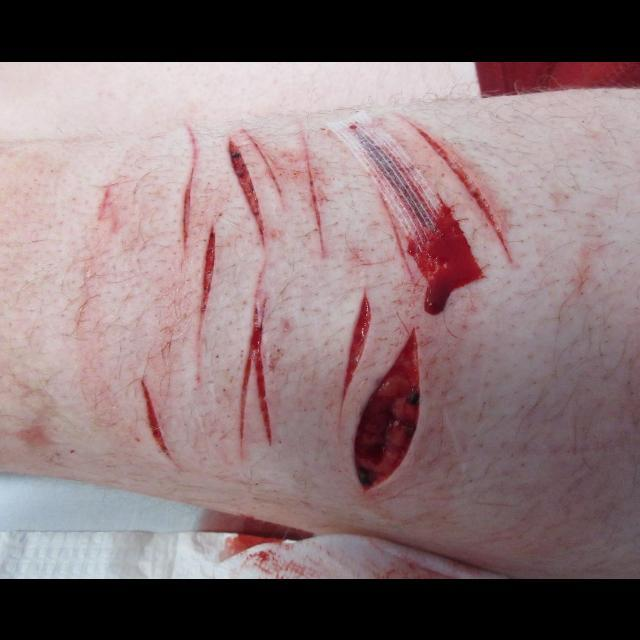blood: (417, 126, 513, 261), (355, 330, 420, 488), (416, 204, 475, 313), (239, 305, 272, 444), (229, 139, 264, 240), (343, 292, 371, 399), (141, 379, 171, 459), (182, 125, 198, 249), (200, 225, 215, 314)
